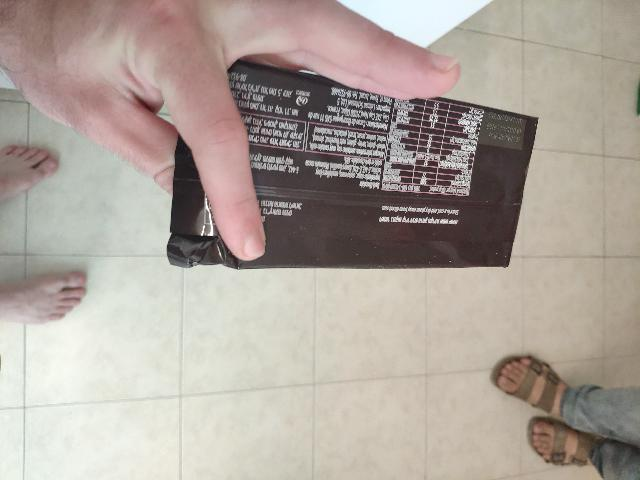chocolate: (182, 90, 437, 480)
